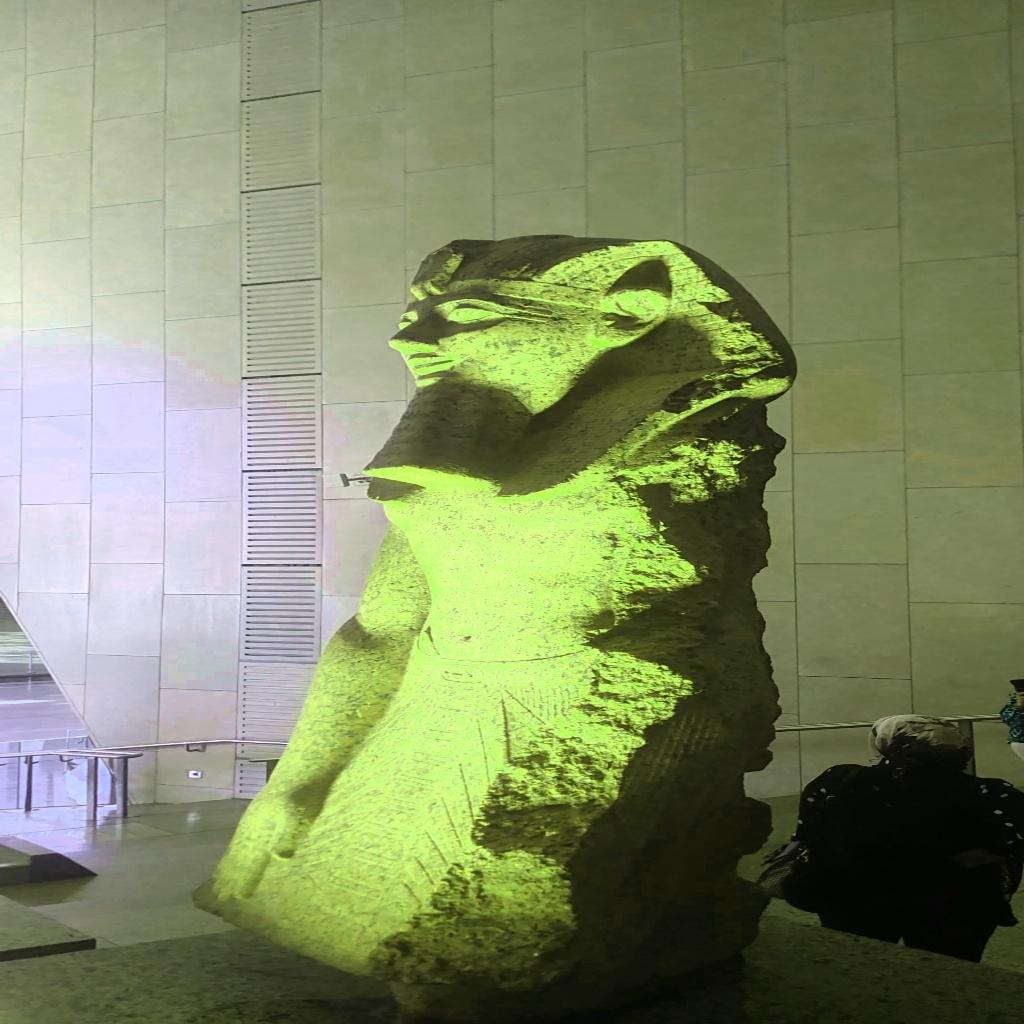Standing Statue of Thutmose III: (190, 232, 802, 1018)
